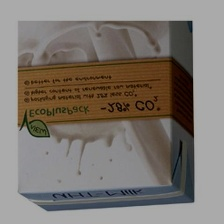carton: (14, 19, 195, 216)
